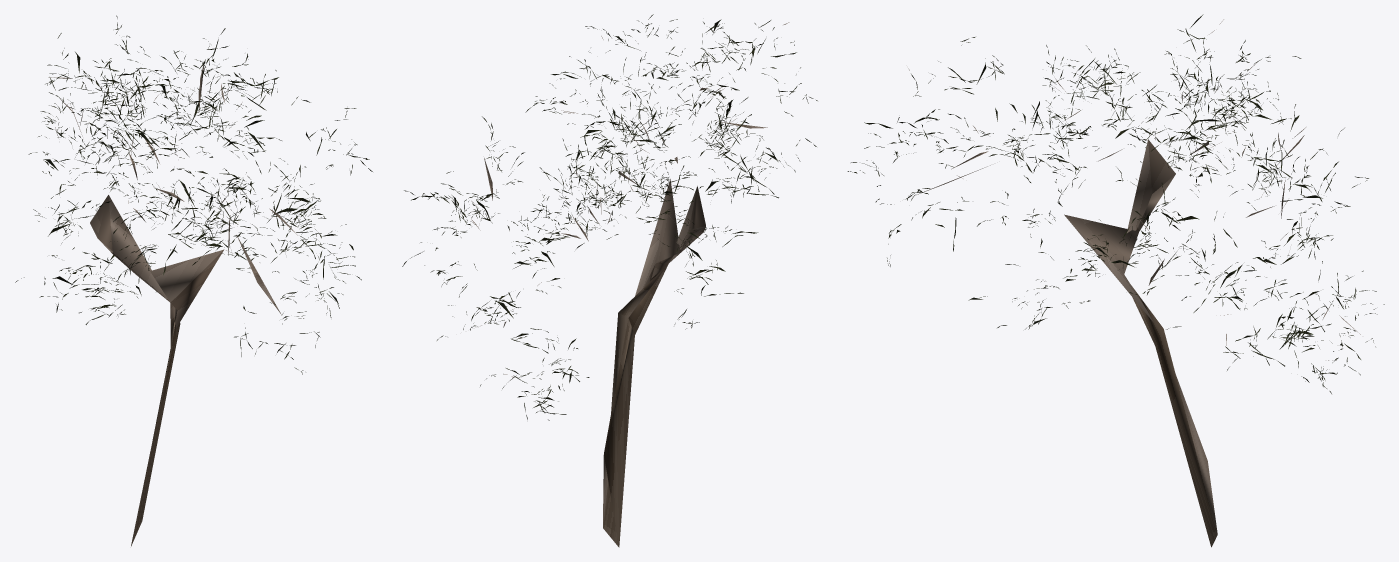
The model's file is tree_leaf_far.glb.
3 renders of one model, left to right at view 1: azimuth 30°, elevation 25°; view 2: azimuth 150°, elevation 25°; view 3: azimuth 270°, elevation 25°, orthographic. The views are drawn at different scales.
Parts seen in each view (by area): view 1: tree_leaf_far; view 2: tree_leaf_far; view 3: tree_leaf_far.
Boxes of the visible parts, bbox=[...] form: tree_leaf_far: bbox=[15, 15, 372, 546]; tree_leaf_far: bbox=[402, 14, 817, 547]; tree_leaf_far: bbox=[847, 14, 1384, 547].
Bounding box in the file's own units: 2.76 × 4.43 × 4.23.
Materials: 3 (3 with a texture image).
